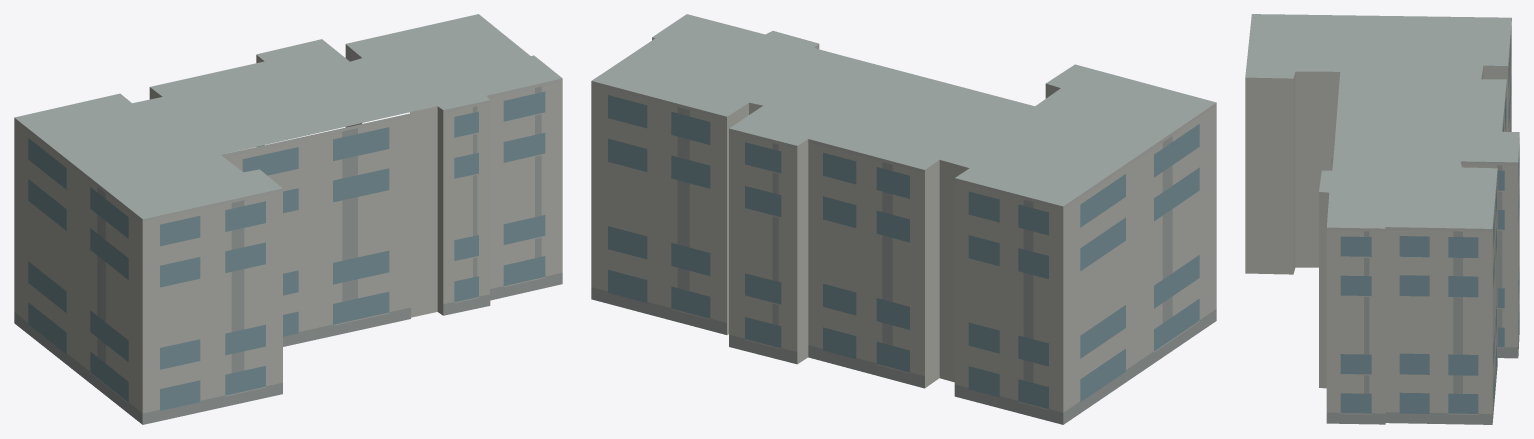
Rendered from survey-upis-32834241.glb.
3 renders of one model, left to right at view 1: azimuth 30°, elevation 25°; view 2: azimuth 150°, elevation 25°; view 3: azimuth 270°, elevation 25°, orthographic. The views are drawn at different scales.
Visible parts, largest first — view 1: survey-upis-32834241.tmp; view 2: survey-upis-32834241.tmp; view 3: survey-upis-32834241.tmp.
Boxes of the visible parts, box(x1,y1,x2,y2) form: survey-upis-32834241.tmp: box(14, 14, 562, 424); survey-upis-32834241.tmp: box(591, 14, 1216, 424); survey-upis-32834241.tmp: box(1245, 14, 1519, 424).
Bounding box in the file's own units: 35.88 × 15.25 × 19.37.
